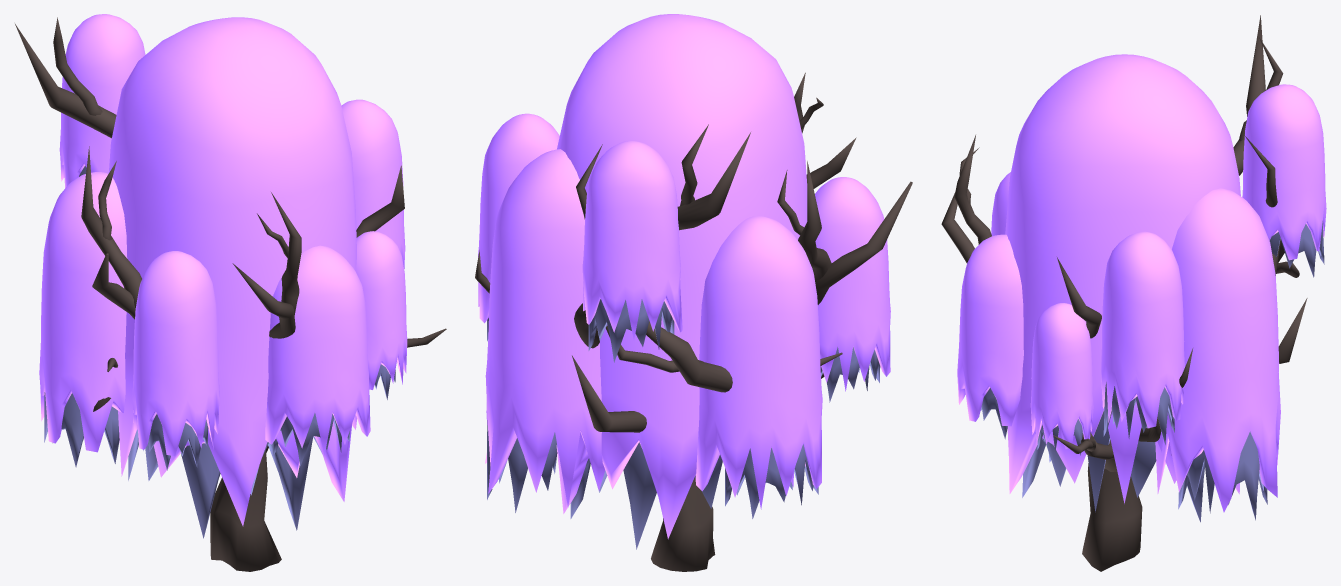
File: mourningbrewwillow.fbx
3 views of the same model, side by side, from view 1: azimuth 30°, elevation 25°; view 2: azimuth 150°, elevation 25°; view 3: azimuth 270°, elevation 25° (orthographic). The views are drawn at different scales.
Visible parts, largest first — view 1: Sphere, Sphere.004, Sphere.016, Sphere.003, Sphere.012, Sphere.002, Sphere.001, Cylinder.001, Sphere.011, Cylinder.020, Cylinder.016, Sphere.020 (+6 smaller); view 2: Sphere, Sphere.005, Sphere.004, Sphere.012, Sphere.003, Sphere.001, Cylinder.001, Cylinder.021, Sphere.011, Cylinder.020, Cylinder.013, Sphere.019 (+6 smaller); view 3: Sphere, Sphere.005, Sphere.001, Sphere.012, Sphere.016, Sphere.002, Cylinder.001, Sphere.011, Sphere.015, Cylinder.020, Sphere.018, Cylinder.017 (+7 smaller).
Boxes of the visible parts, x1,y1,x2,y2 form: Sphere: [108, 17, 356, 526]; Sphere.004: [39, 172, 133, 452]; Sphere.016: [265, 245, 370, 455]; Sphere.003: [132, 251, 219, 456]; Sphere.012: [59, 14, 145, 188]; Sphere.002: [356, 231, 407, 389]; Sphere.001: [341, 99, 405, 268]; Cylinder.001: [210, 450, 281, 571]; Sphere.011: [128, 429, 322, 538]; Cylinder.020: [15, 17, 116, 138]; Cylinder.016: [81, 146, 141, 307]; Sphere.020: [44, 392, 119, 467]; Sphere: [556, 14, 807, 539]; Sphere.005: [485, 149, 605, 507]; Sphere.004: [695, 216, 822, 509]; Sphere.012: [582, 141, 682, 340]; Sphere.003: [815, 177, 890, 391]; Sphere.001: [478, 113, 559, 323]; Cylinder.001: [651, 478, 715, 571]; Cylinder.021: [606, 321, 732, 392]; Sphere.011: [570, 442, 792, 549]; Cylinder.020: [677, 124, 750, 230]; Cylinder.013: [815, 181, 912, 304]; Sphere.019: [588, 299, 674, 362]; Sphere: [1003, 54, 1240, 503]; Sphere.005: [1155, 188, 1280, 512]; Sphere.001: [1100, 231, 1184, 428]; Sphere.012: [1242, 84, 1326, 260]; Sphere.016: [957, 234, 1023, 426]; Sphere.002: [1030, 303, 1093, 448]; Cylinder.001: [1082, 463, 1142, 571]; Sphere.011: [1022, 411, 1204, 522]; Sphere.015: [1178, 431, 1267, 520]; Cylinder.020: [1233, 15, 1283, 175]; Sphere.018: [1103, 382, 1174, 444]; Cylinder.017: [954, 135, 991, 244].
Size of the model in its own units: 5527 by 7955 by 5647.
